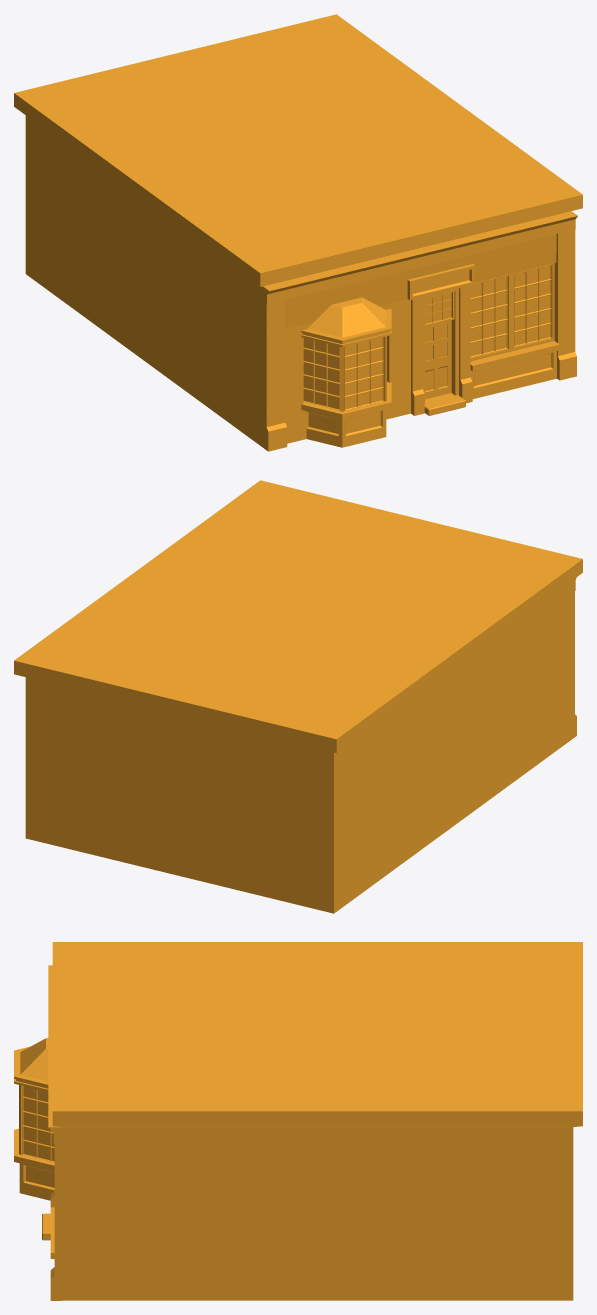
Rendered from SM_Floor_Bottom_Shop_Steampunk.fbx.
3 renders of one model, top to bottom at view 1: azimuth 30°, elevation 25°; view 2: azimuth 150°, elevation 25°; view 3: azimuth 270°, elevation 25°, orthographic. The views are drawn at different scales.
Parts seen in each view (by area): view 1: floor-bottom-shop-steampunk; view 2: floor-bottom-shop-steampunk; view 3: floor-bottom-shop-steampunk.
Part boxes in pixels (box(x1,y1,x2,y2)): floor-bottom-shop-steampunk: box(14, 14, 582, 451); floor-bottom-shop-steampunk: box(14, 480, 582, 913); floor-bottom-shop-steampunk: box(14, 942, 582, 1300).
Bounding box in the file's own units: 9.41 × 5 × 13.36.
